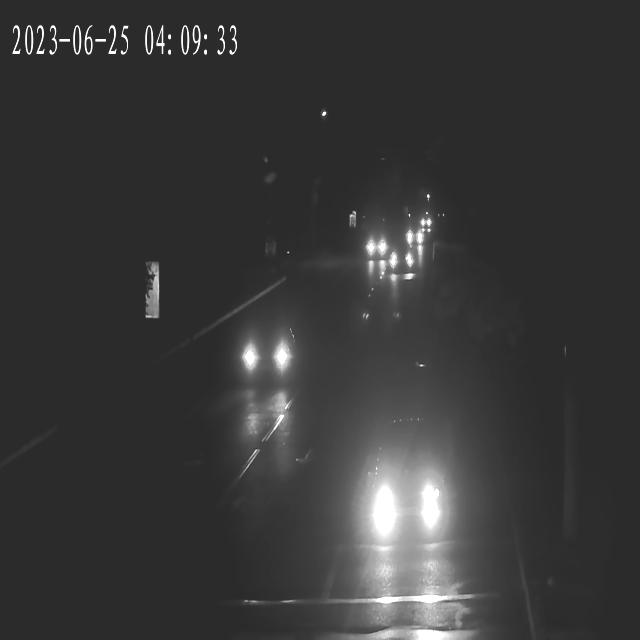Car: (360, 428, 452, 546), (233, 314, 300, 385), (386, 244, 417, 274), (364, 232, 392, 261), (405, 225, 427, 245), (402, 229, 425, 247), (416, 216, 434, 231)
